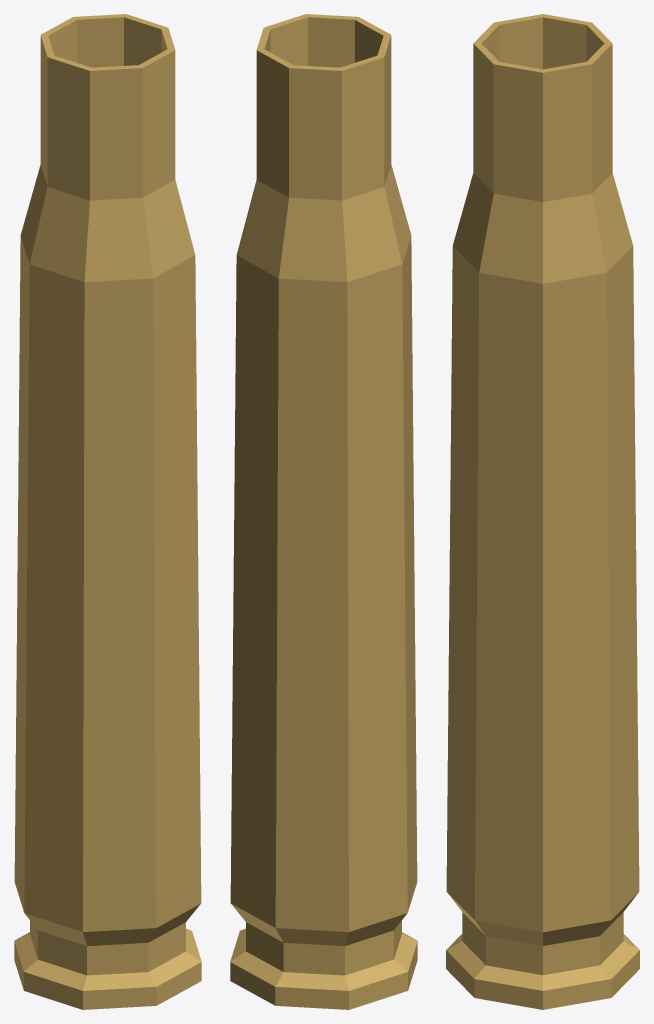
The model's file is case_3006.glb.
The picture shows the model from 3 angles, left to right: view 1: azimuth 30°, elevation 25°; view 2: azimuth 150°, elevation 25°; view 3: azimuth 270°, elevation 25°; orthographic projection.
Visible parts, largest first — view 1: case_3006; view 2: case_3006; view 3: case_3006.
Part boxes in pixels (box(x1,y1,x2,y2)): case_3006: box(14, 14, 201, 1009); case_3006: box(230, 14, 417, 1009); case_3006: box(446, 14, 639, 1009).
Size of the model in its own units: 0.012 by 0.0633 by 0.012.
